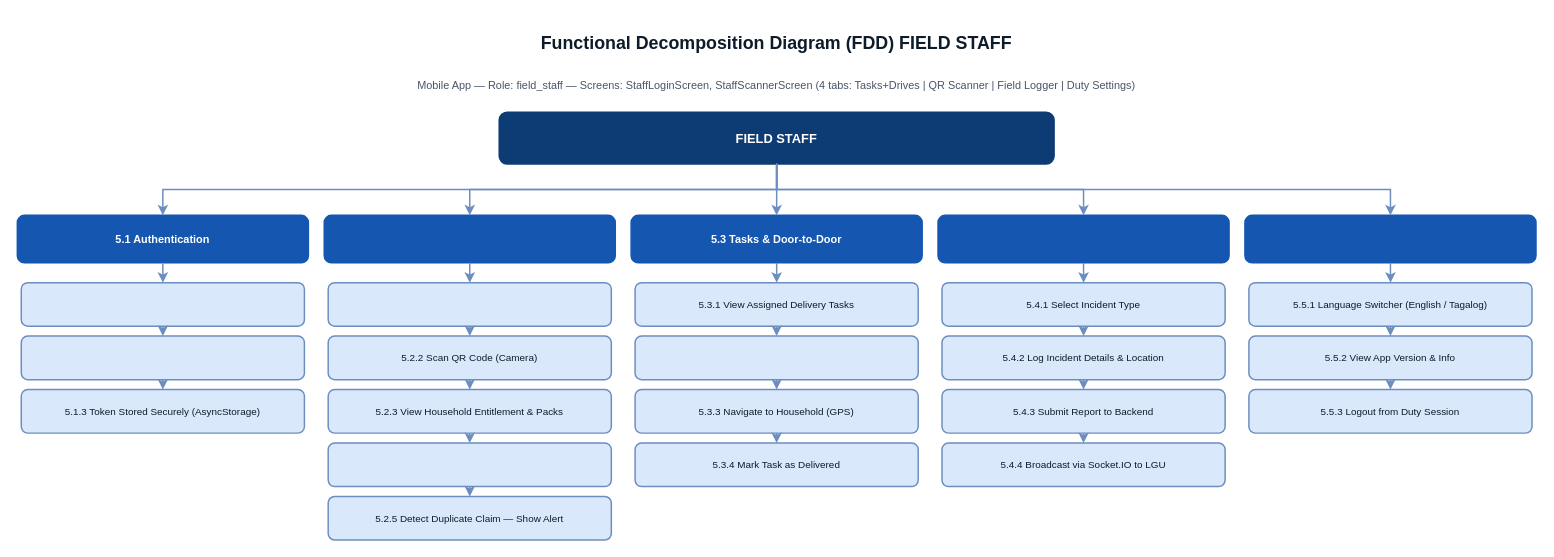
Some shapes in this 1554 by 557 pixel diagram are drawn without their labels. Each missing label, with the box of its shape:
5.1.1 Staff Login (Employee Credentials): (20, 281, 305, 327)
5.1.2 Auto-Route to Staff Mode on Login: (20, 335, 305, 380)
5.2 QR Scanner & Distribution: (323, 214, 616, 263)
5.2.1 View Active Distribution Events: (327, 281, 612, 327)
5.2.4 Confirm Release Button: (327, 442, 612, 487)
5.3.2 View Household Address & Details: (634, 335, 919, 380)
5.4 Incident Field Logger: (937, 214, 1229, 263)
5.5 Duty Settings: (1244, 214, 1536, 263)
